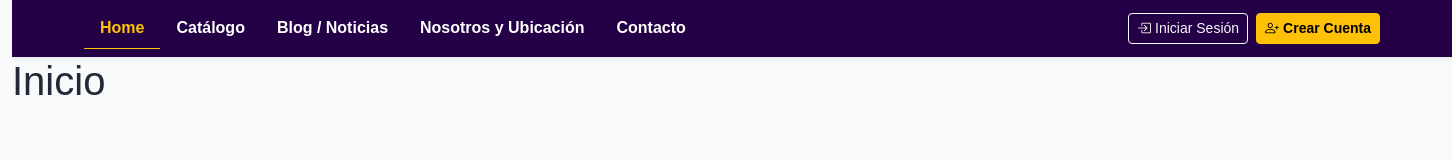
Navbar › 14. Navbar: navega al seleccionar un enlace del menú
Click the link "Blog / Noticias" at (332, 28), box [277,19,388,36]
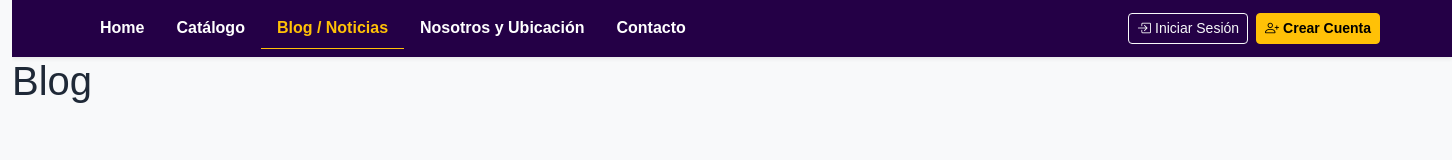
expect the heading "Blog" is shown: met, box [12,59,92,103]
